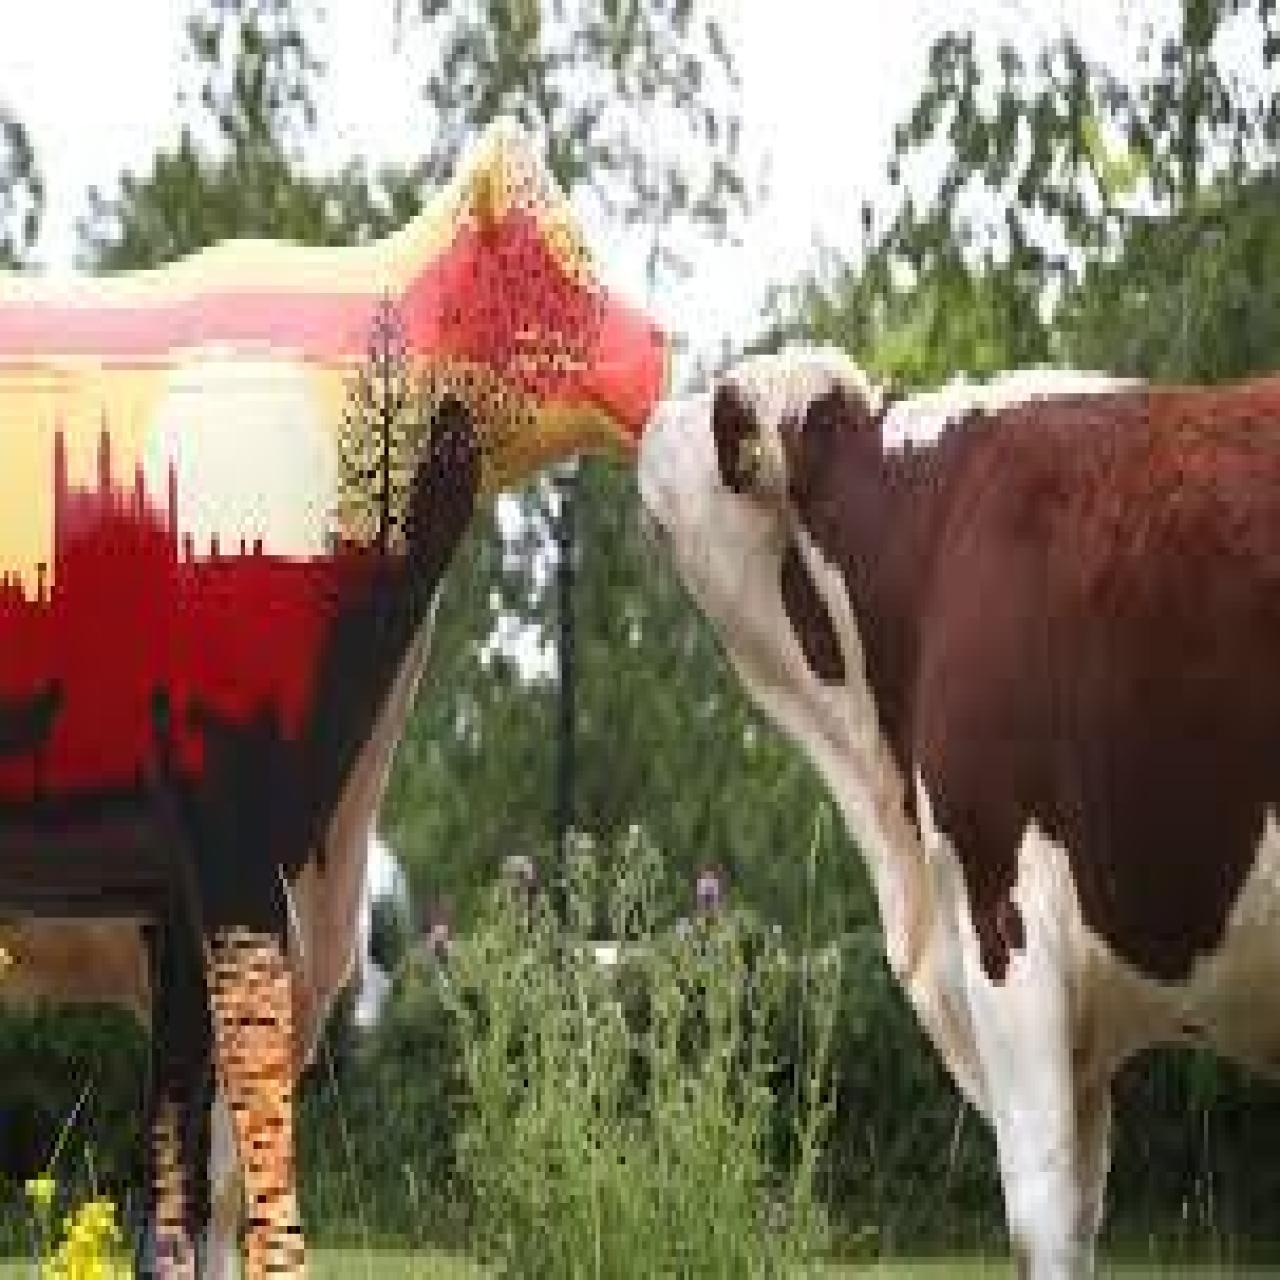cow: (633, 331, 1280, 1280)
